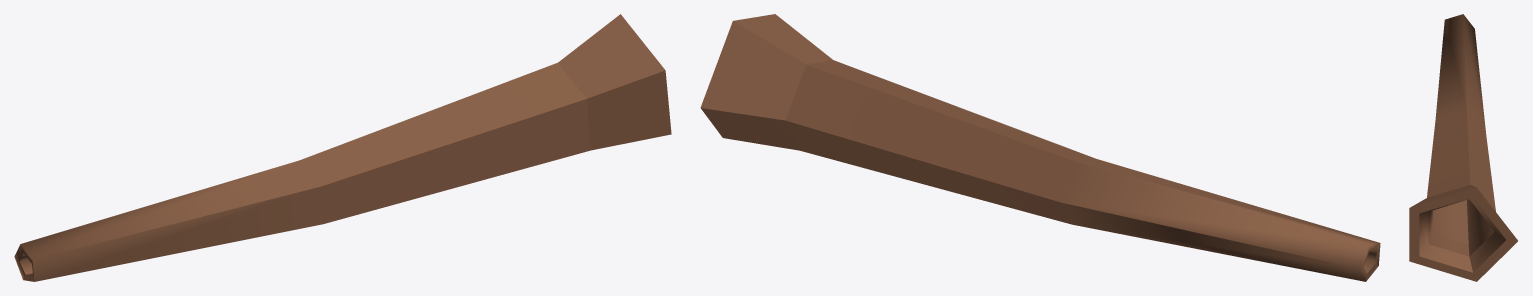
The model's file is tree_bark_fall_2.fbx.
The picture shows the model from 3 angles, left to right: view 1: azimuth 30°, elevation 25°; view 2: azimuth 150°, elevation 25°; view 3: azimuth 270°, elevation 25°; orthographic projection. The views are drawn at different scales.
Visible parts, largest first — view 1: tree_pine; view 2: tree_pine; view 3: tree_pine.
Boxes of the visible parts, box(x1,y1,x2,y2) form: tree_pine: box(14, 14, 671, 281); tree_pine: box(700, 14, 1380, 281); tree_pine: box(1409, 14, 1517, 281).
Size of the model in its own units: 383 by 73.16 by 74.75.
